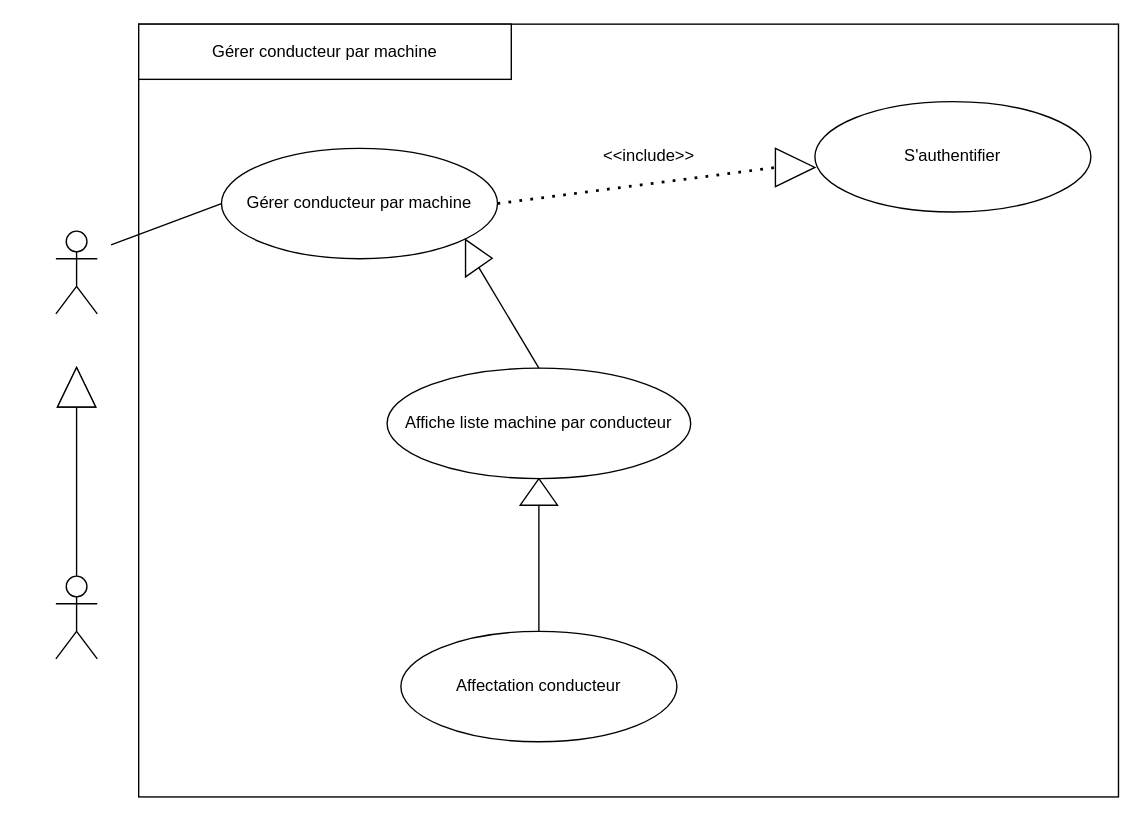
The diagram is 1143 pixels wide and 821 high, and some of its shapes have lost their labels. Each missing label, with the box of its shape:
administrateur: (55, 575, 97, 659)
Chef d'atelier: (55, 230, 97, 314)
